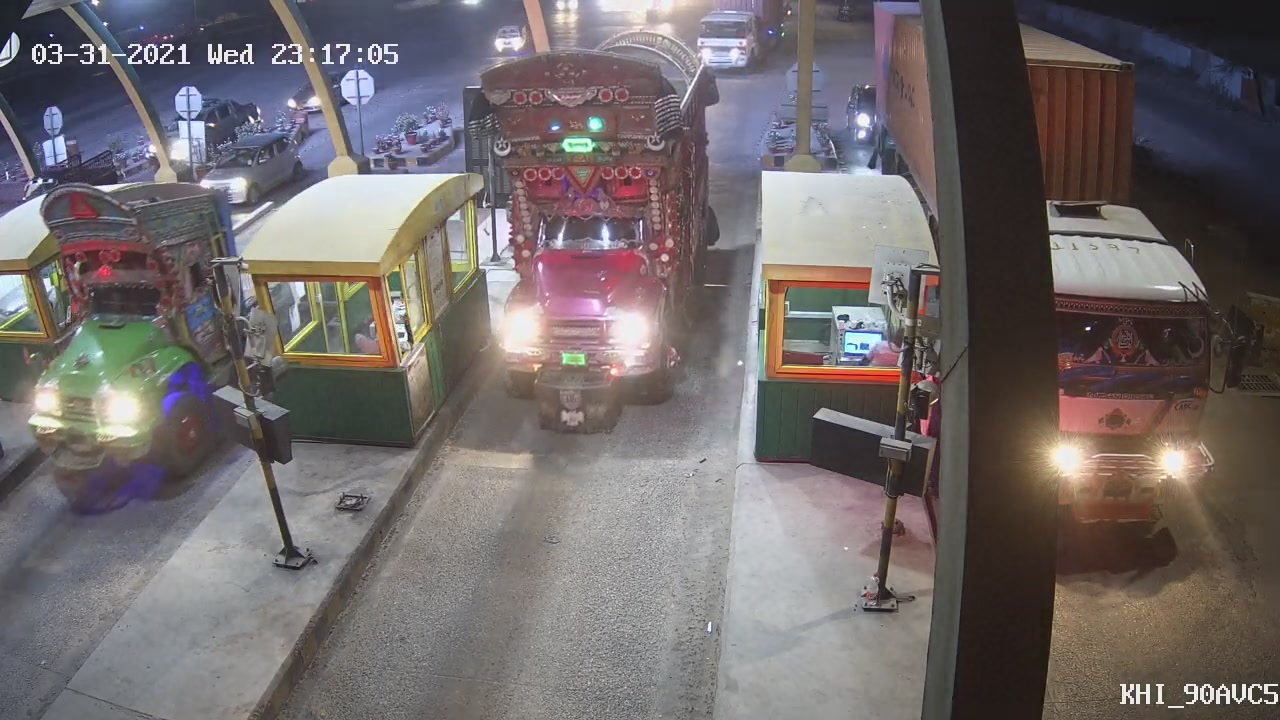F5: (466, 28, 725, 422)
